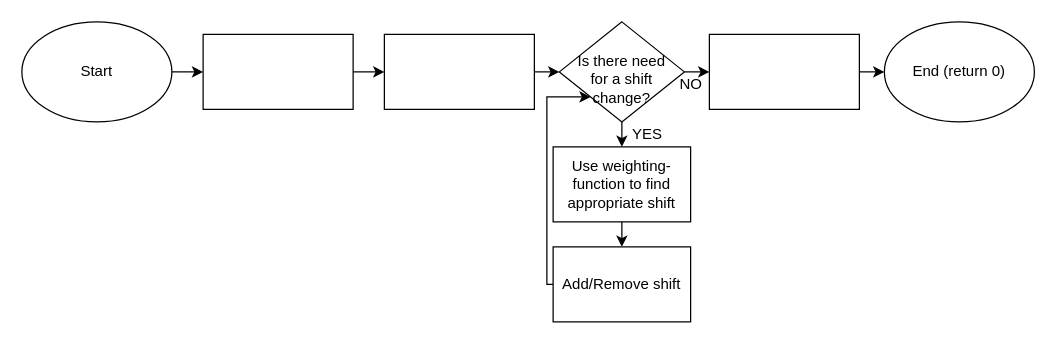
This 1056x344 diagram has some shape labels left out. Each missing label, with the box of its shape:
Process the data: (383, 33, 534, 109)
Read the input file: (202, 33, 353, 109)
Write new data in the right format to a .csv fileformat.: (708, 33, 859, 109)
